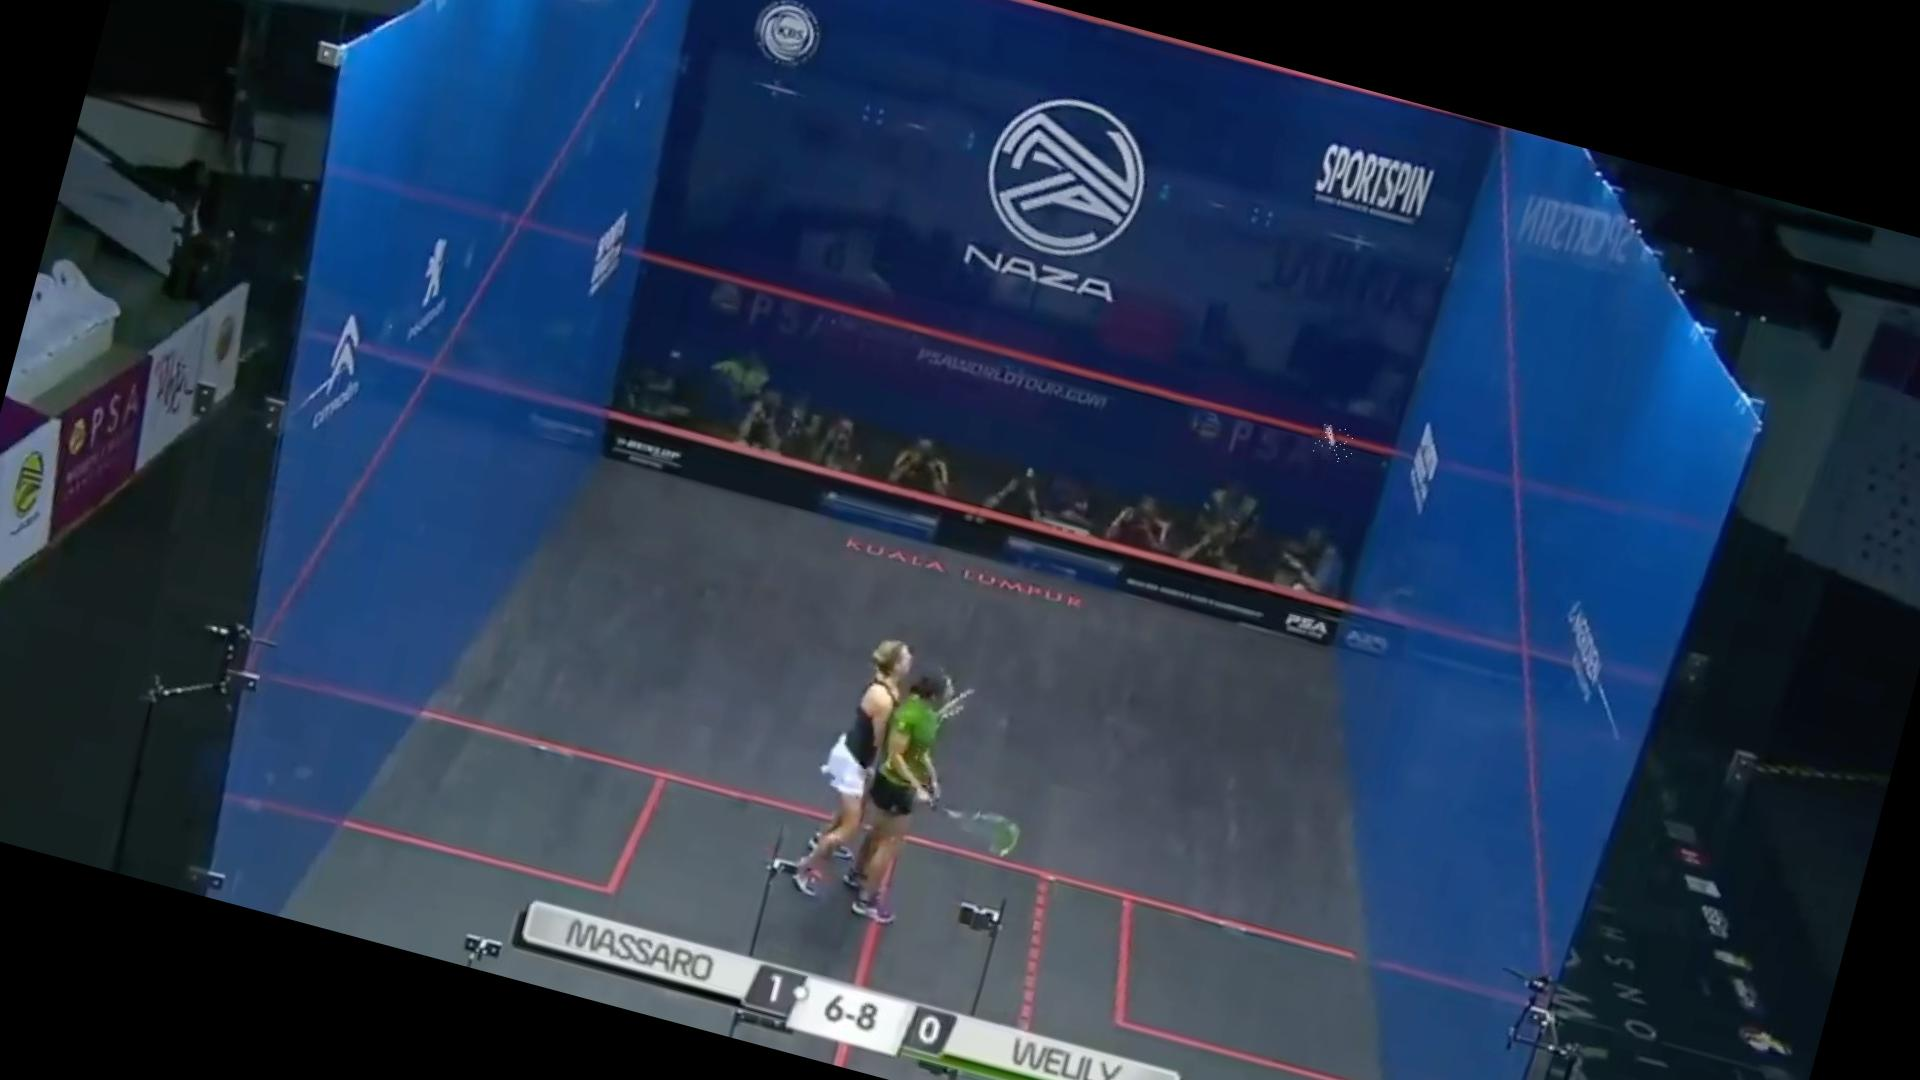Squash-Ball: (1311, 421, 1358, 468)
